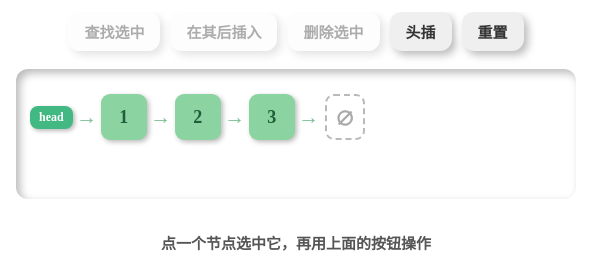
it: LinkViz › TC-VIZ-LINKVIZ-04 remove 减节点
Click the button "2". click: (198, 117)
box: [175,94,221,140]
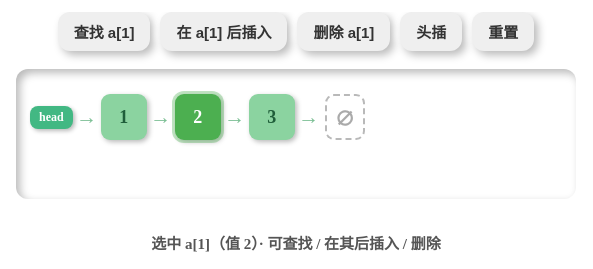
Click the button "删除 a[1]". click: (344, 32)
box: [298,12,390,51]
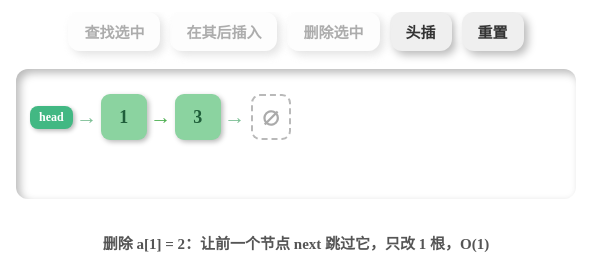
Now the number of elements with class "node" is 2, box [101,94,175,140]; [175,94,249,140]
